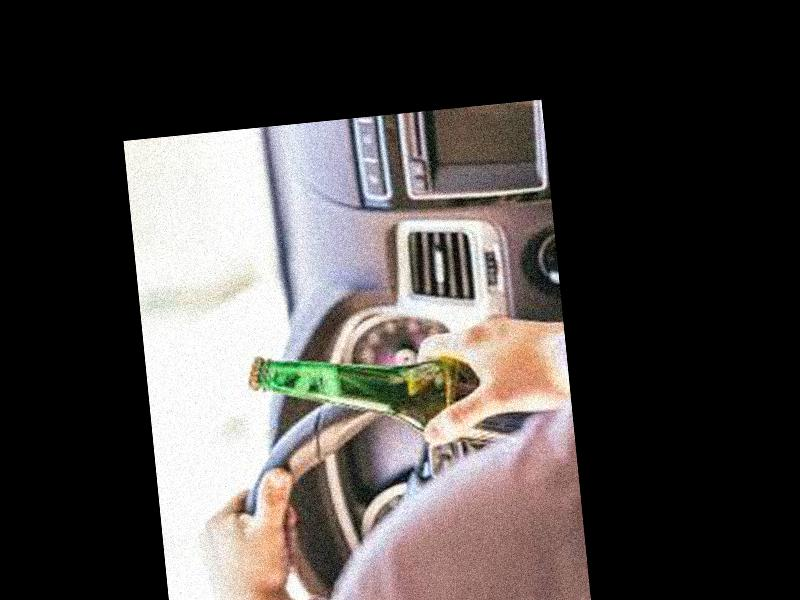Beer: (244, 326, 561, 472)
